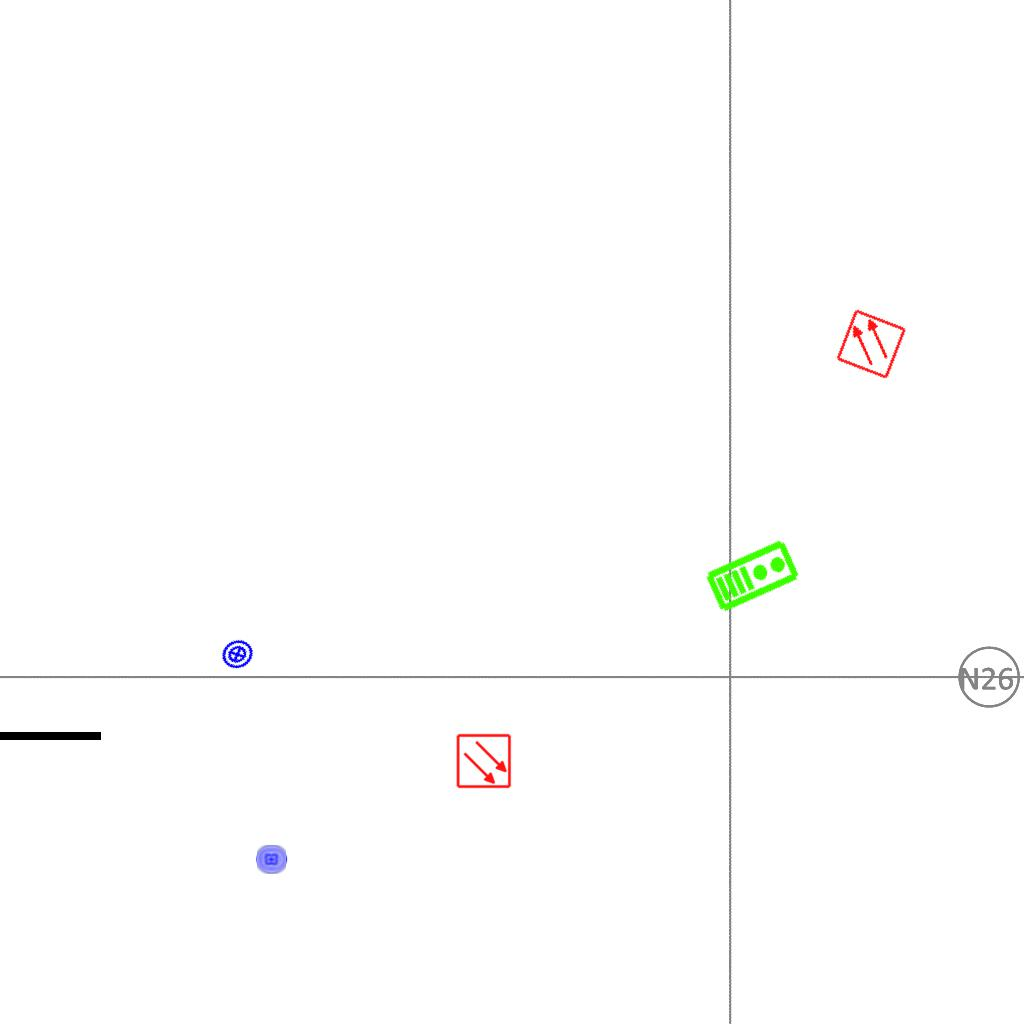Gegensprechanlage_mit_Video: (702, 535, 803, 615)
RMO_Rauchmelder_optischer: (834, 307, 908, 381), (456, 733, 512, 789)
Taster_beleuchtet: (215, 632, 260, 677), (255, 843, 288, 876)
